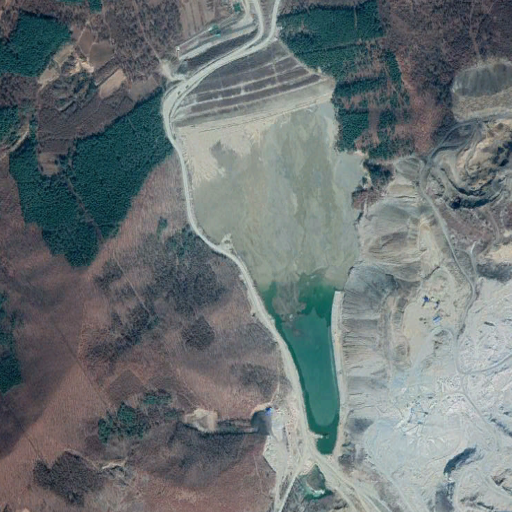tp: (166, 30, 367, 461)
